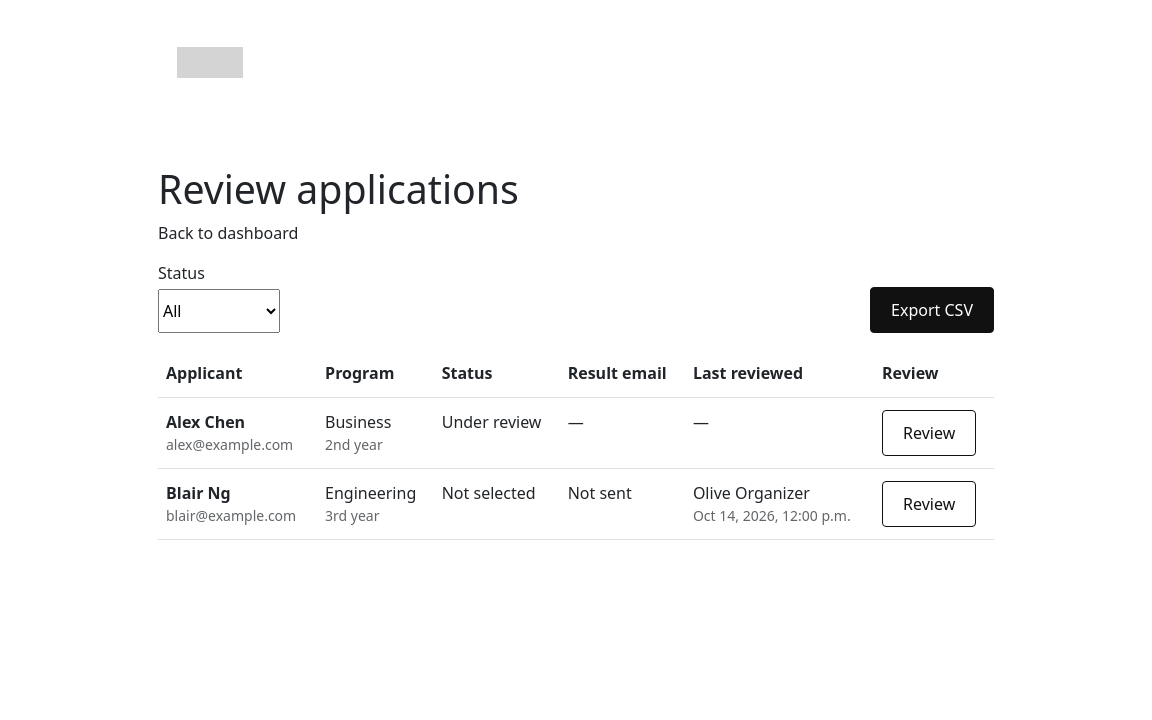
Test: OrganizerReview › can cancel a pending decline
Expected: the column heading "Alex Chen" is shown, [166,411,245,433]
Click the button "Review" in the row of "Alex Chen". click: (929, 433)
box: [882,410,976,456]
(page scrolled)
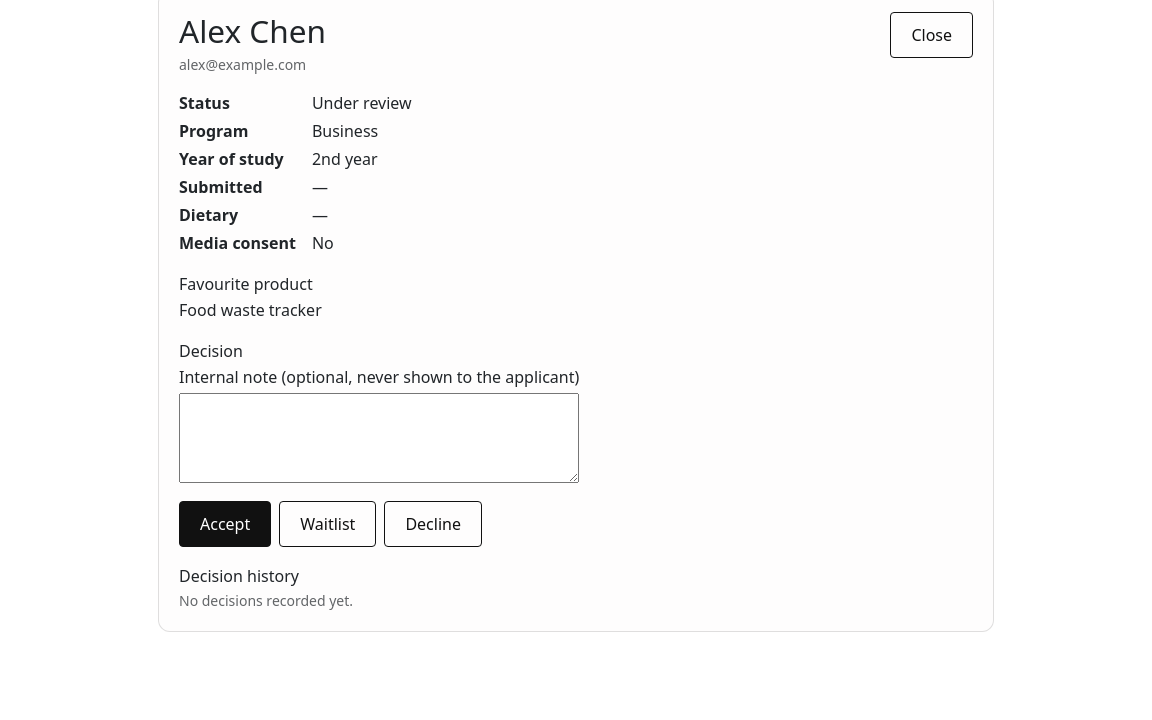
Click the button "Decline". click: (433, 524)
box: [384,501,482,547]
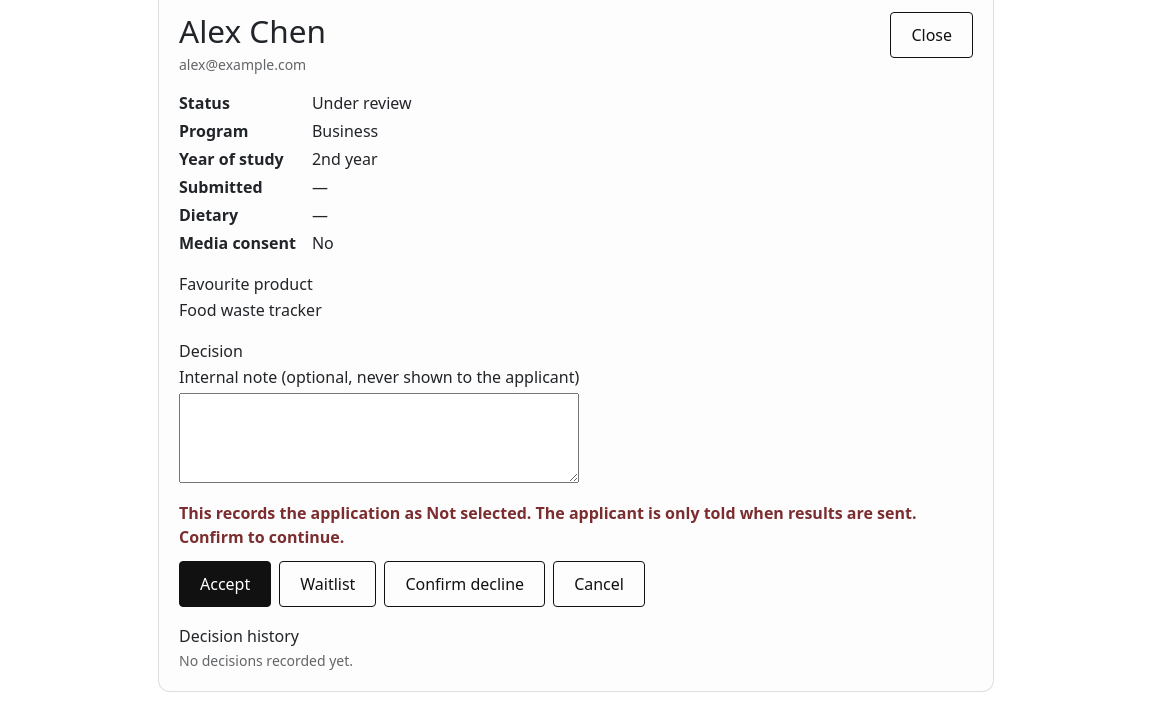
Click the button "Cancel". click: (599, 584)
box: [553,561,645,607]
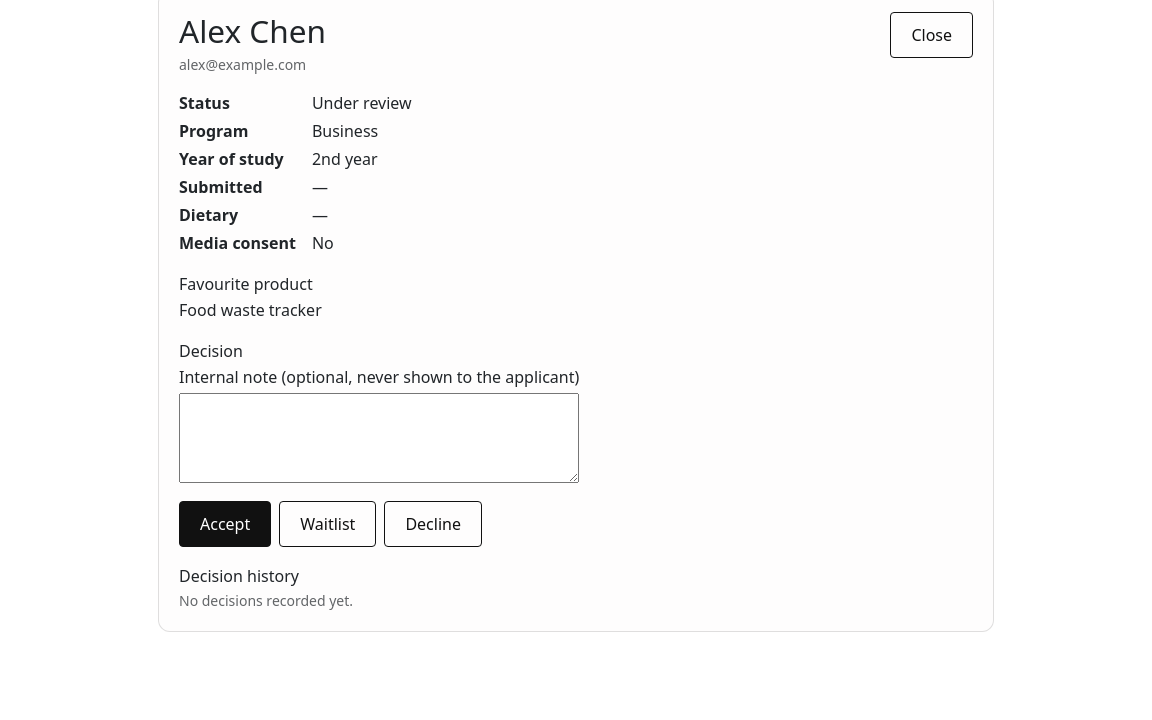
Now the message is gone
